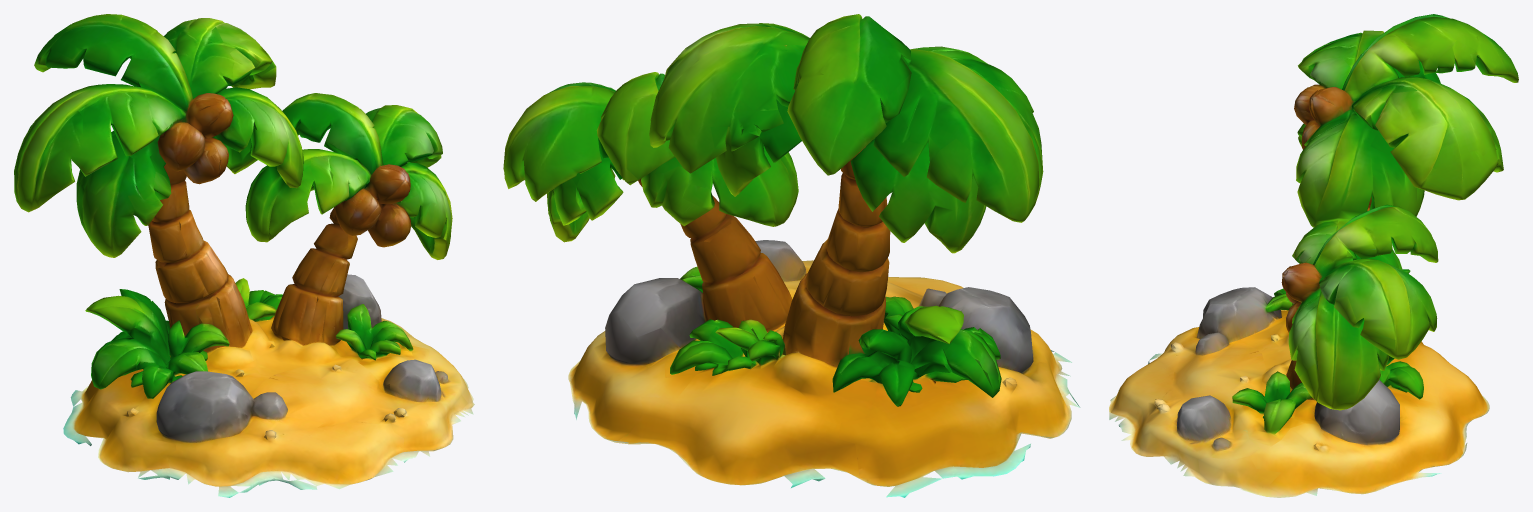
Rendered from island.glb.
3 views of the same model, side by side, from view 1: azimuth 30°, elevation 25°; view 2: azimuth 150°, elevation 25°; view 3: azimuth 270°, elevation 25° (orthographic). The views are drawn at different scales.
Parts seen in each view (by area): view 1: island; view 2: island; view 3: island.
Boxes of the visible parts, <box> form: island: <box>14,14,474,497</box>; island: <box>503,14,1080,497</box>; island: <box>1109,14,1518,497</box>.
Bounding box in the file's own units: 24.01 × 20.27 × 21.16.
Materials: 1 (1 with a texture image).
